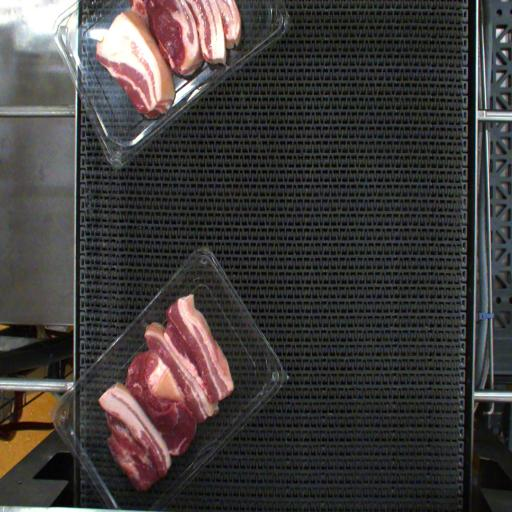packaging-error: (140, 317, 151, 328)
